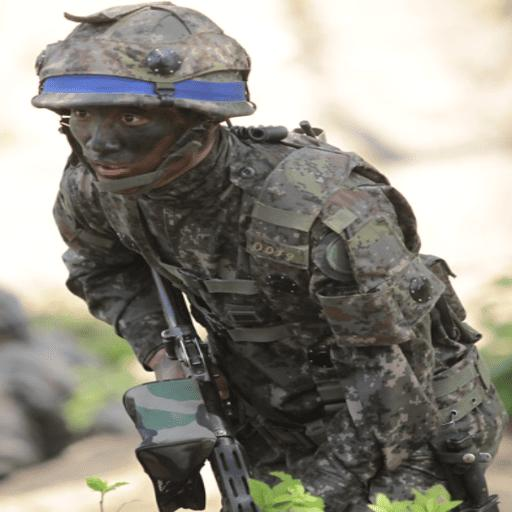korea army: (30, 0, 507, 511)
